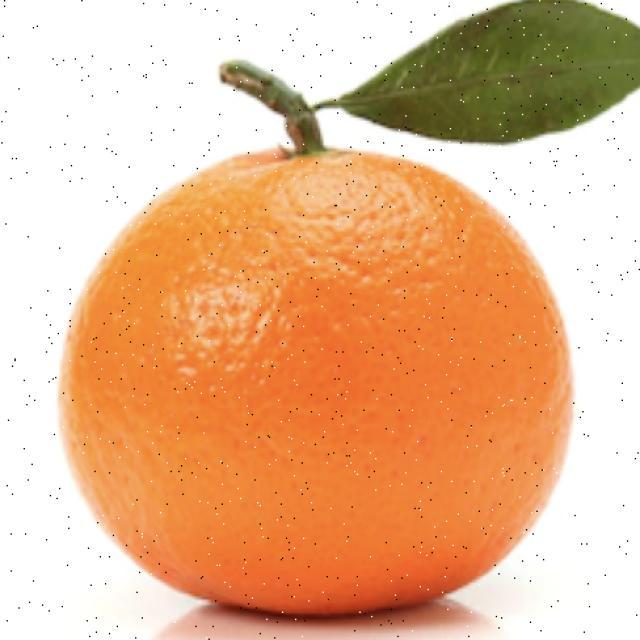Orange: (57, 140, 574, 618)
